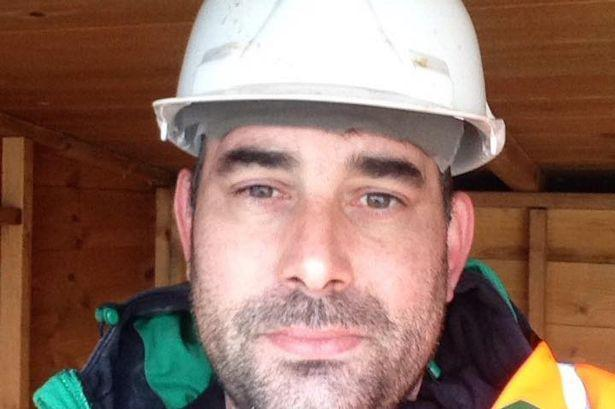helmet: (151, 0, 514, 173)
